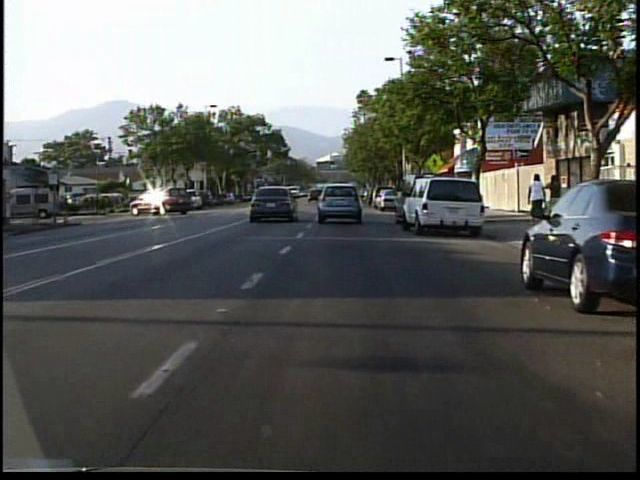person: (528, 169, 549, 222)
